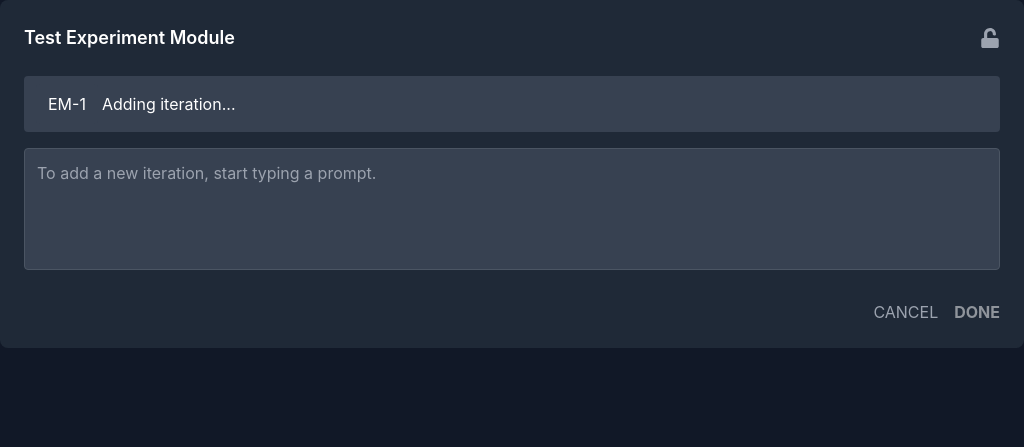
Scenario: ExperimentModule › allows adding multiple iterations
In the text box with placeholder "To add a new iteration, start typing a prompt.": [512, 209] box [24,148,1000,270], type "First iteration"
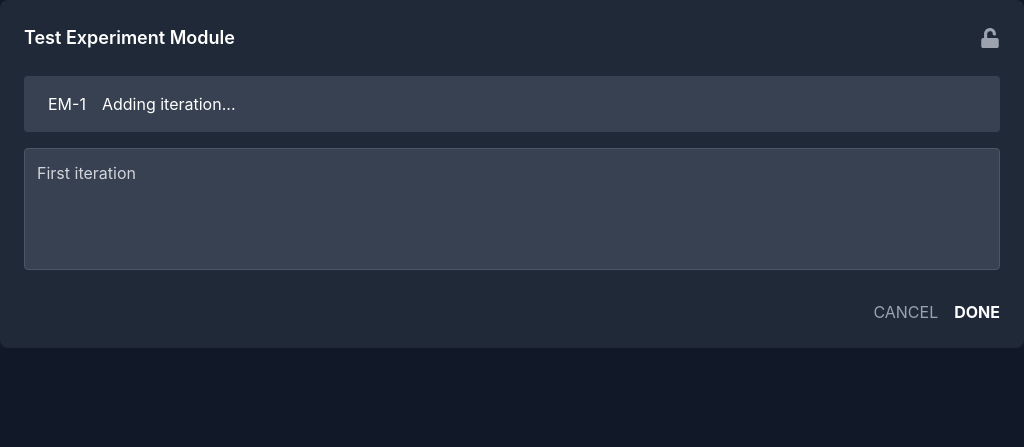
Click the button "DONE": [977, 312] box [954,300,1000,324]
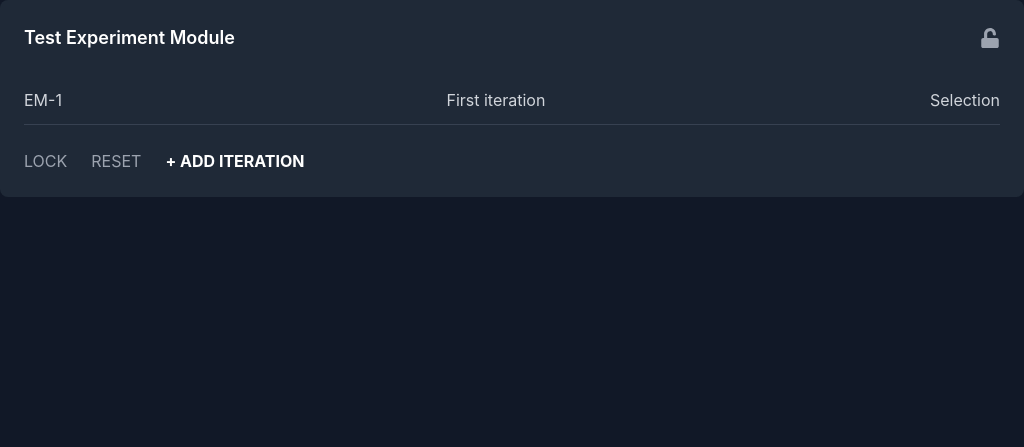
Click the button "+ ADD ITERATION": [235, 161] box [165,149,304,173]
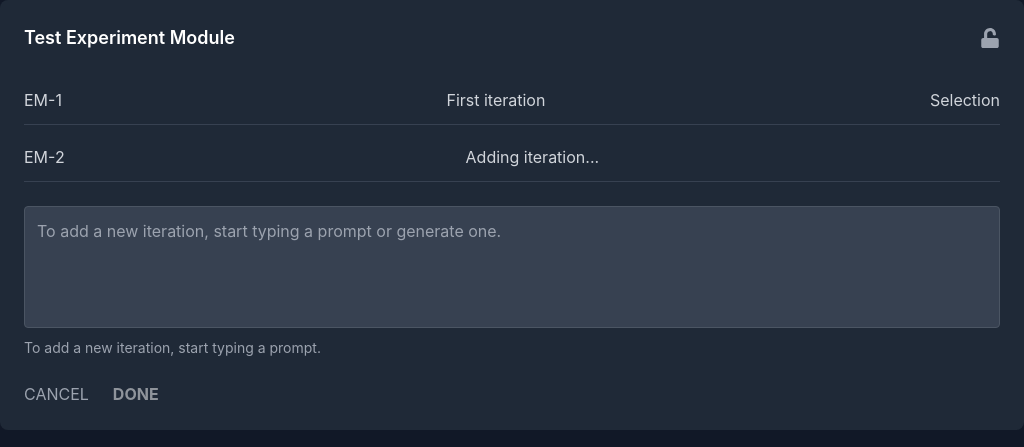
Replace the text in the text box with placeholder "To add a new iteration, start typing a prompt or generate one." with "Second iteration": [512, 267] box [24,206,1000,328]
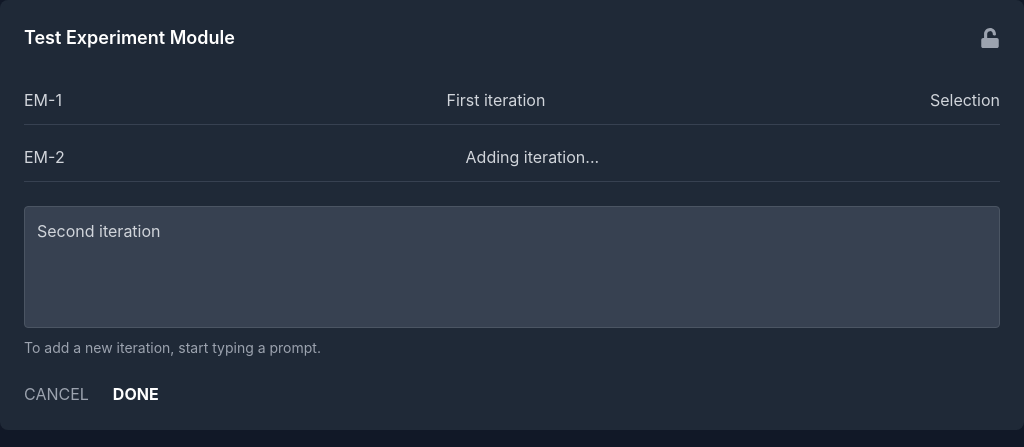
Click the button "DONE": [136, 394] box [113,382,159,406]
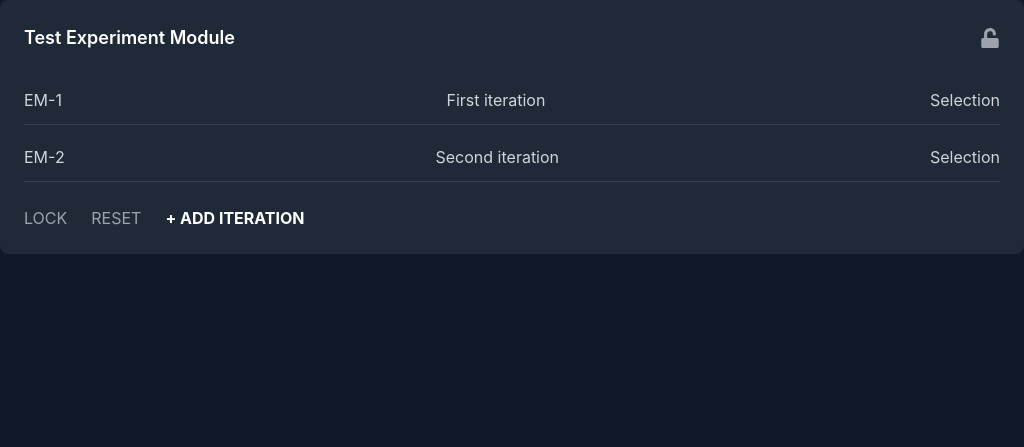
Expected: the text "First iteration" is shown, [446,88,545,112]
Expected: the text "Second iteration" is shown, [436,145,559,169]
